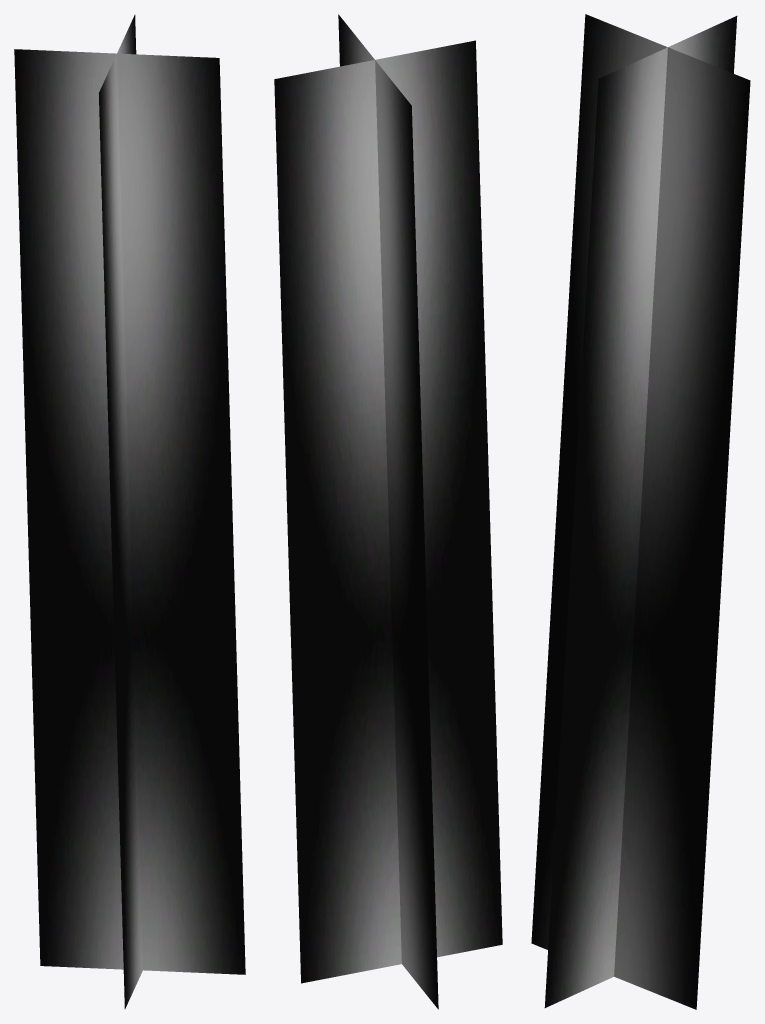
Rendered from vfx_kurp_0804.dae.
3 views of the same model, side by side, from view 1: azimuth 30°, elevation 25°; view 2: azimuth 150°, elevation 25°; view 3: azimuth 270°, elevation 25° (orthographic). The views are drawn at different scales.
Visible parts, largest first — view 1: vfx_kurp_0804; view 2: vfx_kurp_0804; view 3: vfx_kurp_0804.
Part boxes in pixels (left/top/right/bottom): vfx_kurp_0804: left=14, top=15, right=245, bottom=1008; vfx_kurp_0804: left=274, top=14, right=502, bottom=1009; vfx_kurp_0804: left=531, top=14, right=750, bottom=1009.
Bounding box in the file's own units: 2.57 × 3.41 × 16.08.
1 material, 1 textured.
